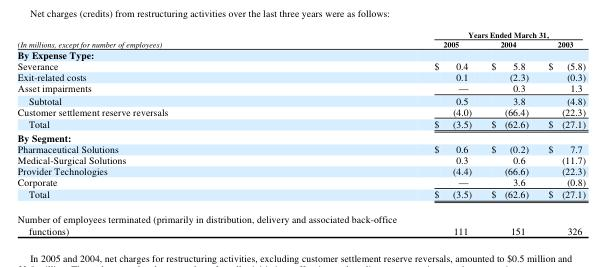table: (16, 29, 585, 235)
table column: (16, 29, 414, 235), (414, 29, 480, 235), (480, 29, 537, 235), (537, 29, 585, 235)
table column header: (16, 29, 585, 48)
table projected row header: (16, 130, 585, 143), (16, 48, 585, 60)
table row: (16, 206, 585, 235), (16, 187, 585, 206), (16, 117, 585, 130), (16, 130, 585, 143), (16, 48, 585, 60), (16, 82, 585, 94), (16, 105, 585, 117), (16, 60, 585, 71), (16, 71, 585, 82), (16, 94, 585, 105), (16, 143, 585, 154), (16, 154, 585, 165), (16, 165, 585, 176), (16, 176, 585, 187), (16, 38, 585, 48), (16, 29, 585, 38)
table spanning cell: (16, 29, 414, 48), (414, 29, 585, 38)
